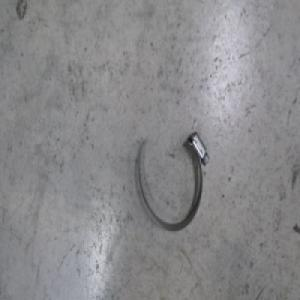AdjustableClamp: (135, 127, 211, 235)
